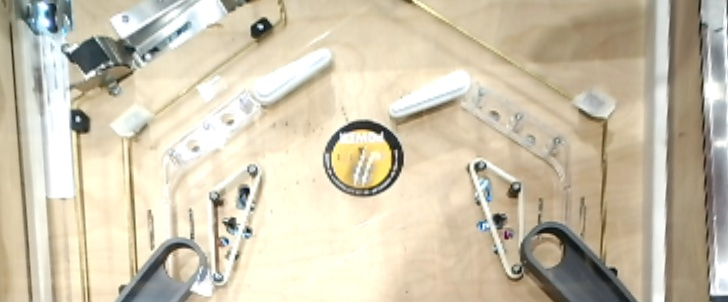flipper-left: (387, 64, 475, 123)
flipper-right: (249, 43, 337, 104)
